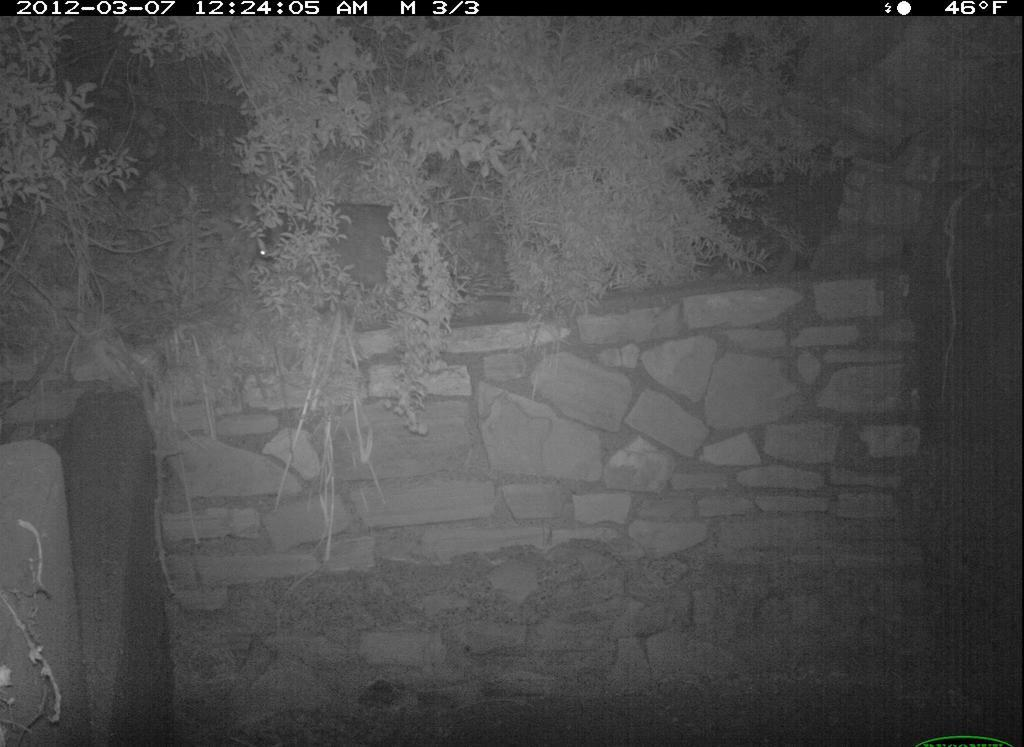raccoon: (250, 201, 431, 317)
